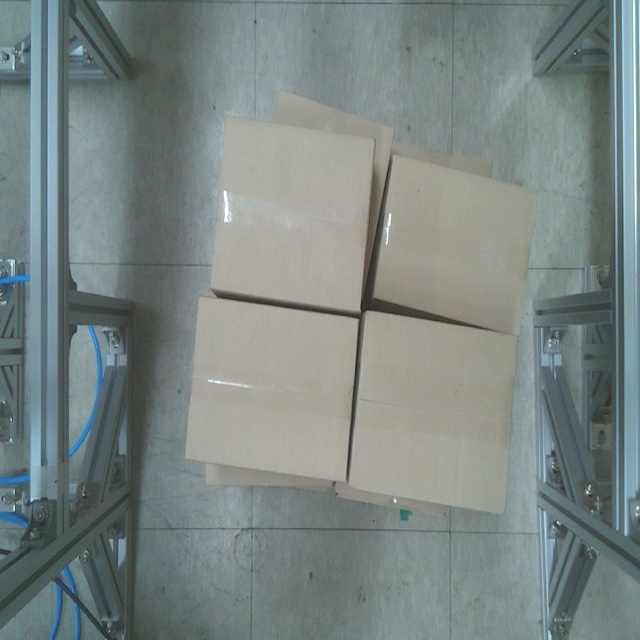box: (348, 309, 522, 519), (207, 113, 378, 315), (181, 295, 360, 484), (371, 155, 542, 339)
